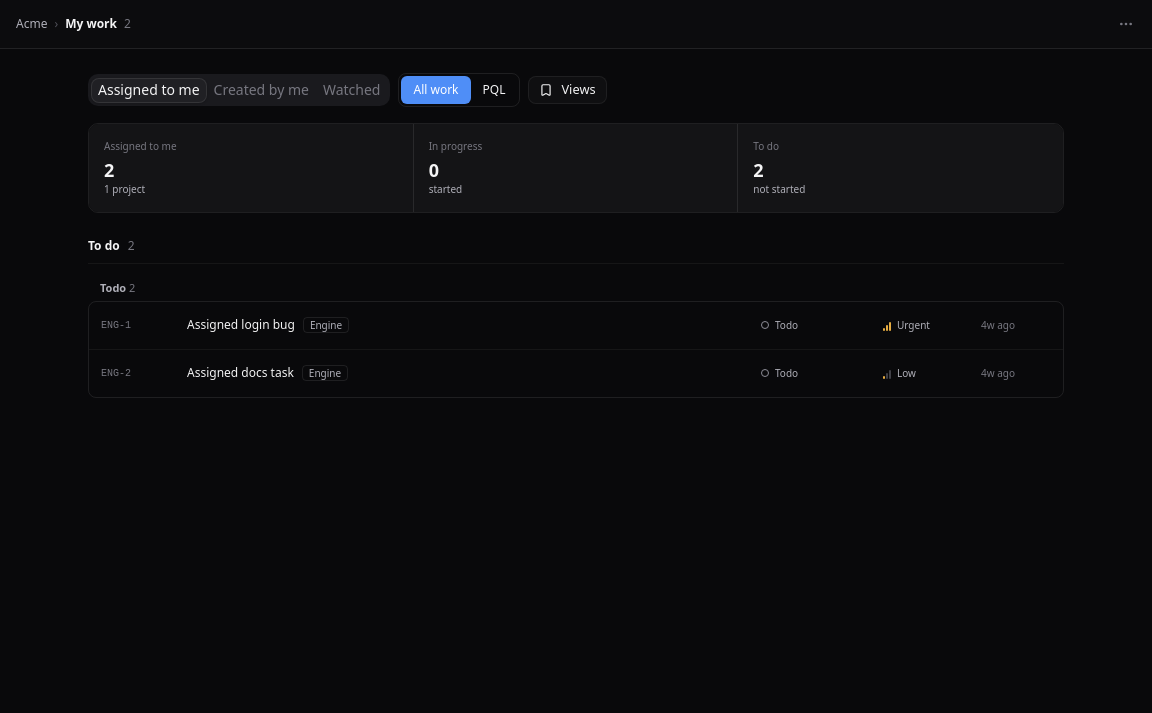
Test: mywork PQL mode (C112T1) › editor shows the adapted Views save hint (C113T1: the views cycle flipped showSaveHint to true)
Expected: the text "Assigned login bug" is shown, left=187, top=316, right=295, bottom=334
Expected: the text "Assigned docs task" is shown, left=187, top=364, right=294, bottom=382
Click the button "PQL" at coordinates (494, 90), box left=470, top=76, right=517, bottom=104
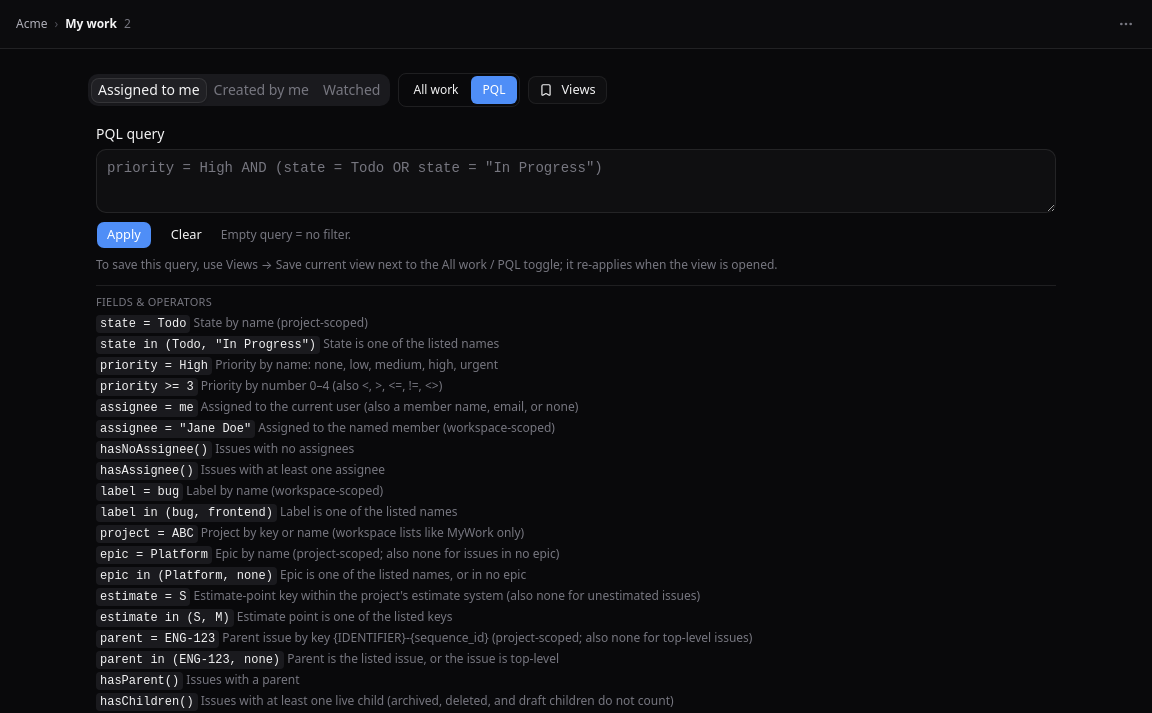
Now the text box labelled "PQL query" is shown, box left=96, top=149, right=1056, bottom=213
Now the text "To save this query, use Views → Save current view next to the All work / PQL toggle; it re-applies when the view is open" is shown, box left=96, top=256, right=778, bottom=273
